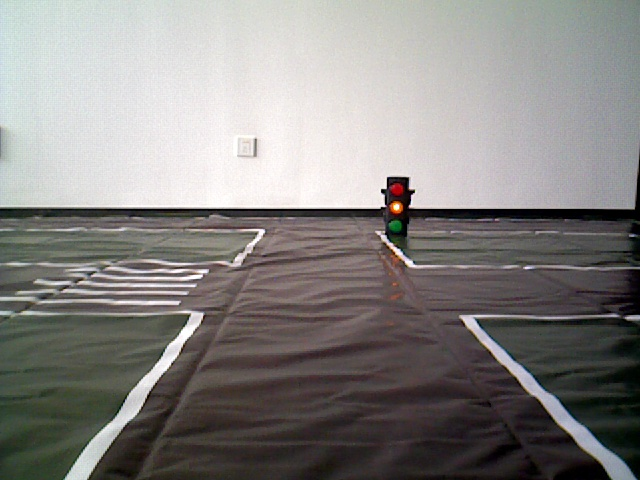yellow: (382, 177, 411, 237)
